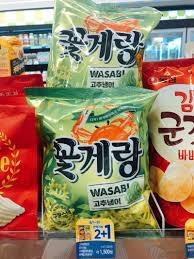snack: (24, 85, 163, 236)
